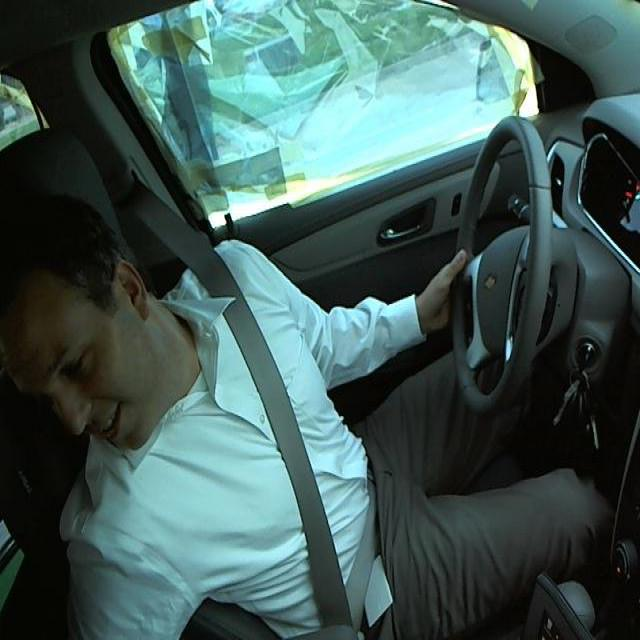seatbelt: (261, 383, 393, 636)
